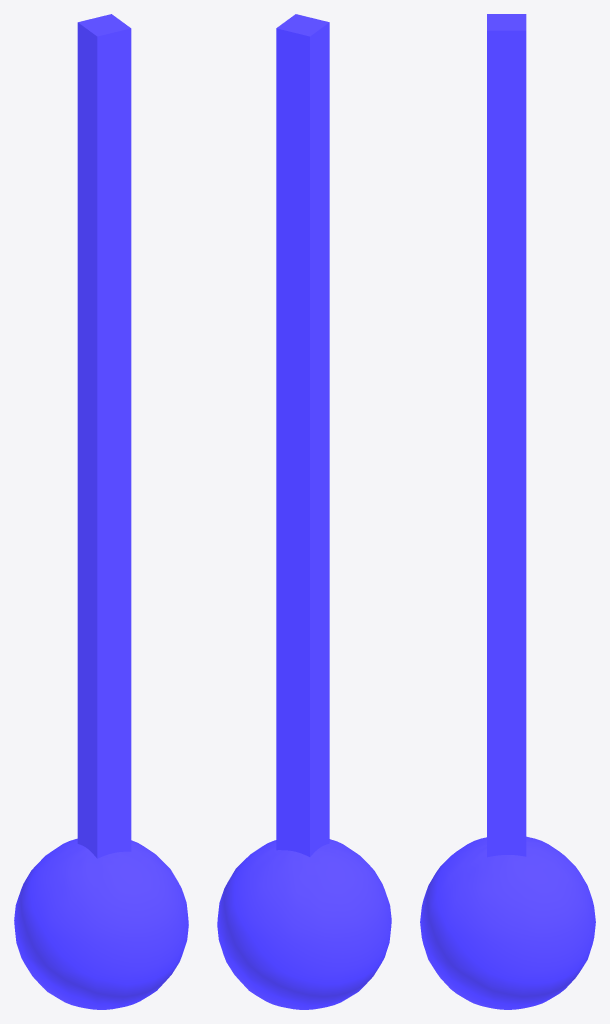
File: NewWebMenuStaff1Listner.gltf
The picture shows the model from 3 angles, left to right: view 1: azimuth 30°, elevation 25°; view 2: azimuth 150°, elevation 25°; view 3: azimuth 270°, elevation 25°; orthographic projection.
Parts seen in each view (by area): view 1: ListnerModuli.006; view 2: ListnerModuli.006; view 3: ListnerModuli.006.
Part boxes in pixels (bbox=[...]): ListnerModuli.006: bbox=[14, 14, 188, 1009]; ListnerModuli.006: bbox=[217, 14, 391, 1009]; ListnerModuli.006: bbox=[420, 14, 595, 1009].
Size of the model in its own units: 0.0421 by 0.259 by 0.0421.
